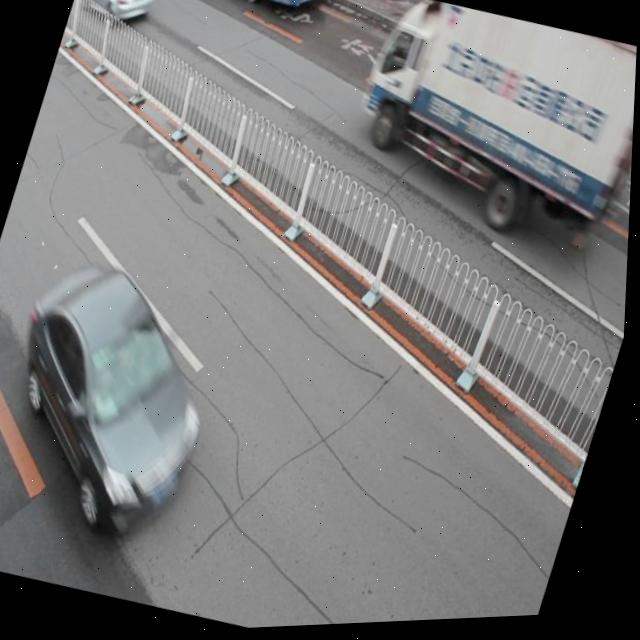bus: (334, 0, 640, 264)
car: (0, 247, 242, 542), (75, 0, 162, 34)
van: (115, 0, 334, 25)
